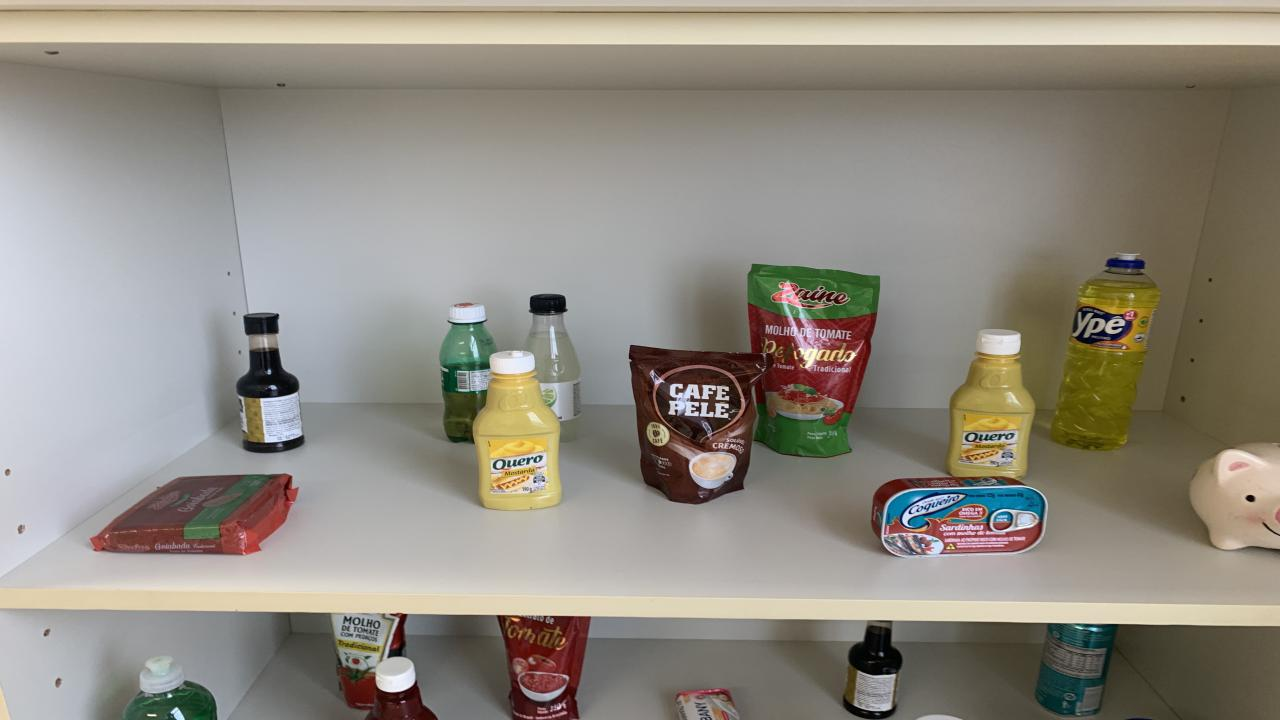Coffee-Pantry_Items: (630, 345, 770, 504)
Detergent-Cleanup_Items: (1052, 255, 1160, 450), (122, 656, 218, 720)
English_Sauce-Pantry_Items: (235, 313, 305, 452), (842, 621, 902, 718)
Guarana-Drinks: (440, 304, 498, 442)
Guava-Snacks: (90, 474, 298, 555)
Ketchup-Pantry_Items: (365, 656, 438, 720)
Mustard-Pantry_Items: (472, 352, 562, 510), (945, 330, 1035, 478)
Pig_Safe-Miscellaneous: (1190, 442, 1280, 549)
Soap-Cleanup_Items: (675, 688, 740, 720)
Soda-Drinks: (525, 294, 580, 442)
Tea-Drinks: (1035, 624, 1118, 716)
Tomato_Sauce-Pantry_Items: (748, 264, 880, 458), (498, 615, 590, 718), (330, 613, 408, 709)
Tuna_Can-Pantry_Items: (872, 476, 1048, 557)
